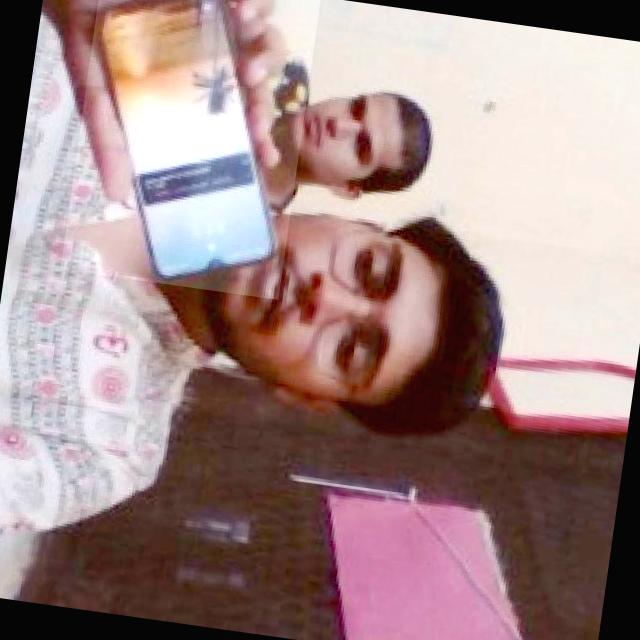phone: (58, 0, 315, 298)
